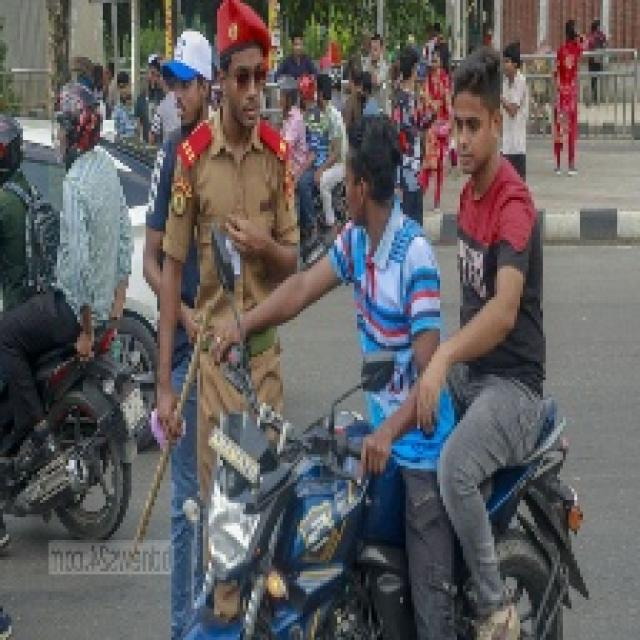bike: (175, 349, 574, 629), (6, 309, 142, 528)
